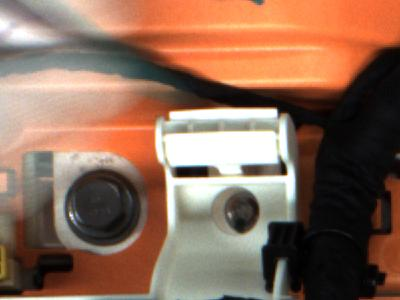nut_b: (56, 157, 150, 258)
